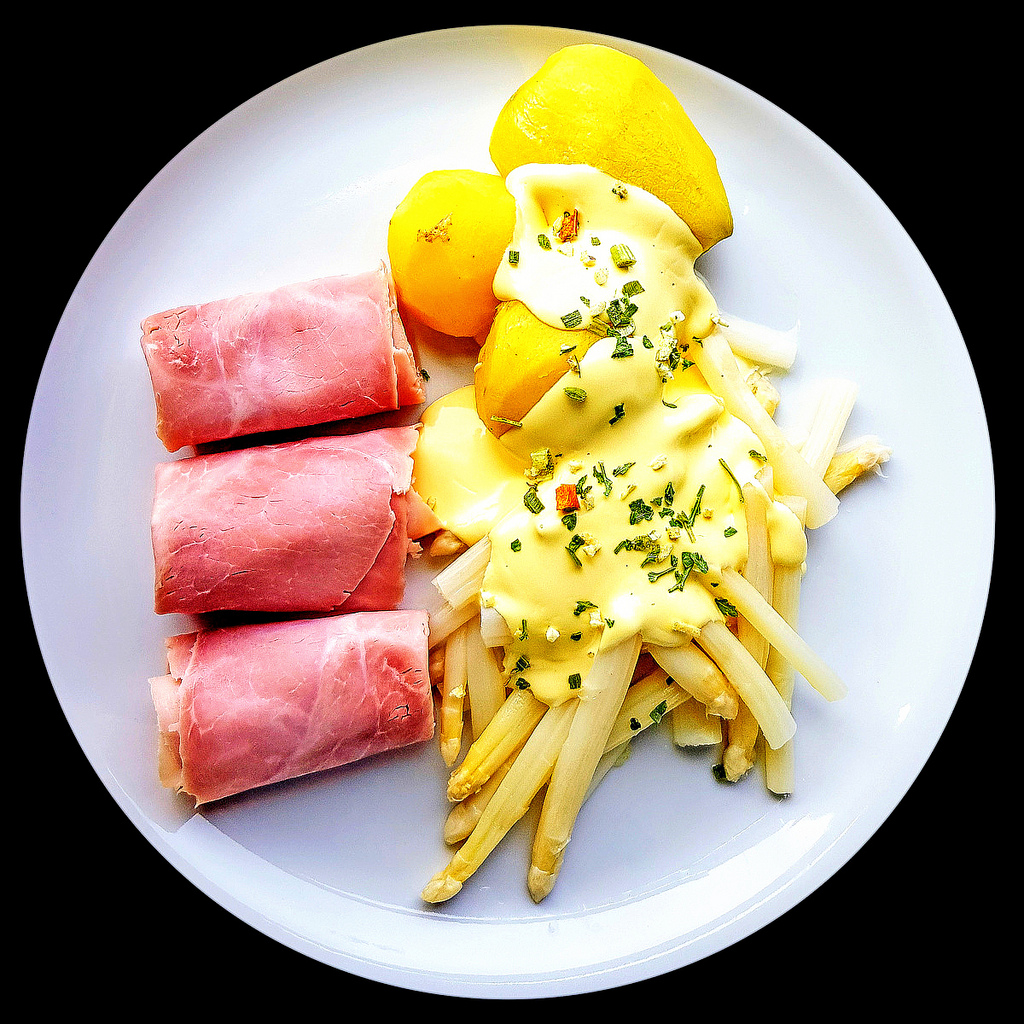boiled potatoes: (490, 60, 751, 260), (392, 177, 517, 332), (479, 296, 609, 437)
